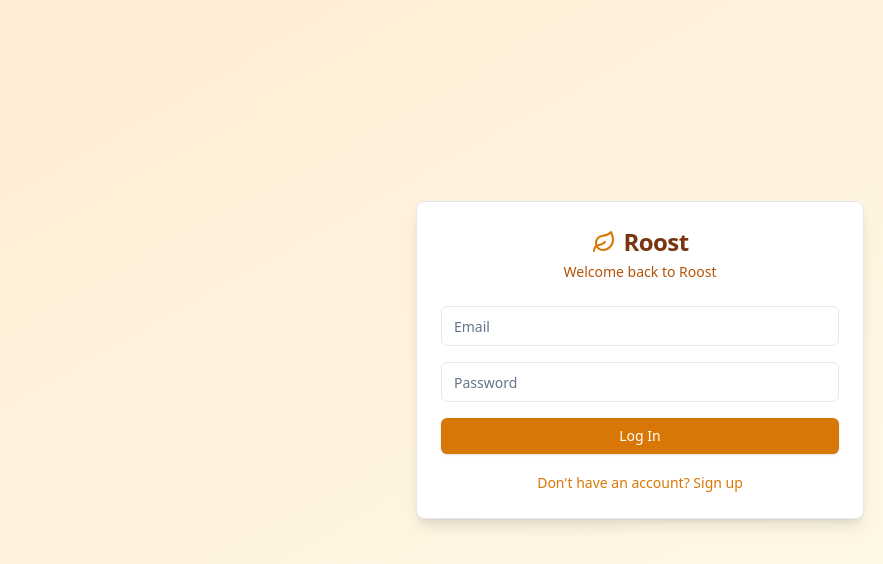
Test: LoginPage › should handle login failure
This screenshot has width=883, height=564.
Type "test@example.com" into the field with placeholder "Email" at (640, 326), box [441,306,839,346]
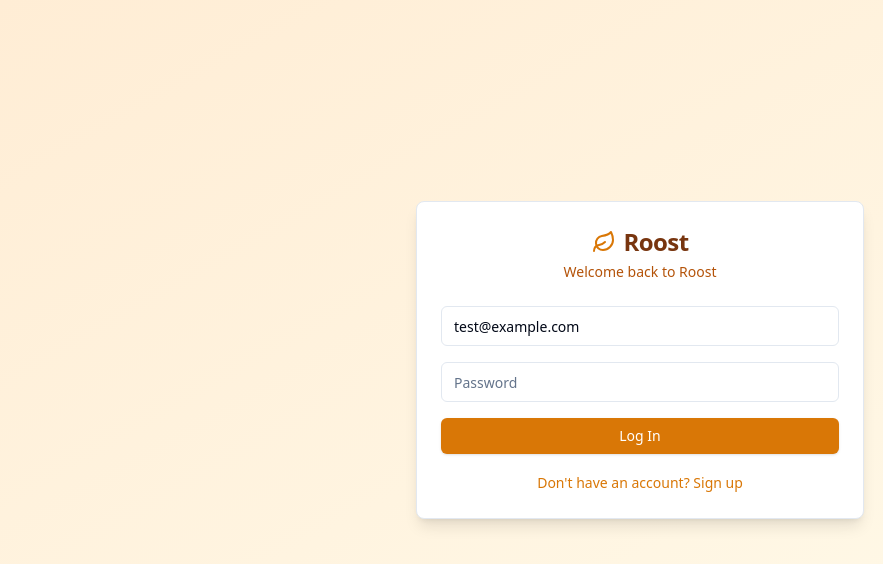
Type "password123" into the password field with placeholder "Password" at (640, 382), box [441,362,839,402]
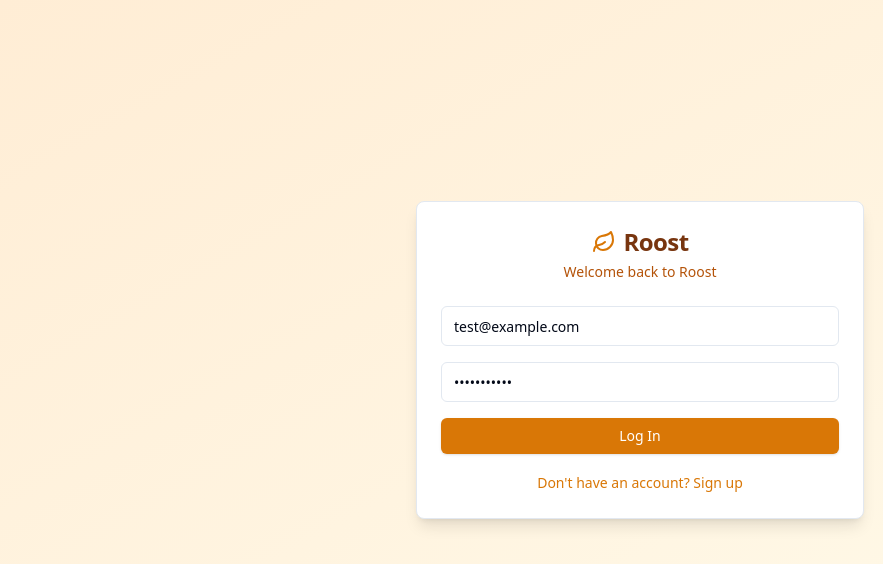
Click the button "Log In" at (640, 436), box [441,418,839,454]
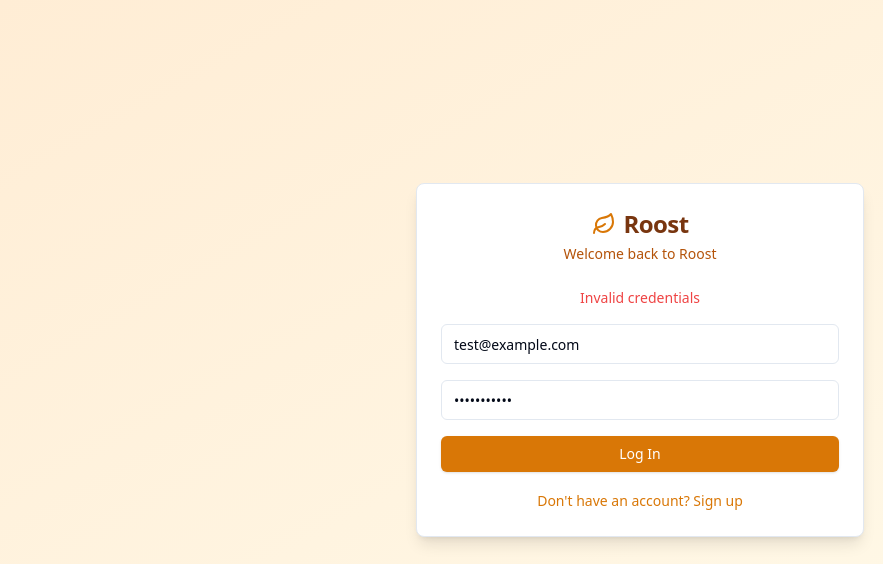
Result: the text "Invalid credentials" is shown at [580,288,700,307]
